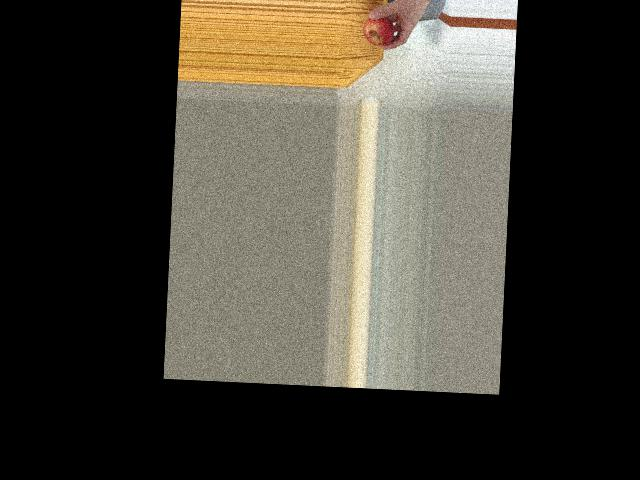apple: (363, 9, 395, 49)
